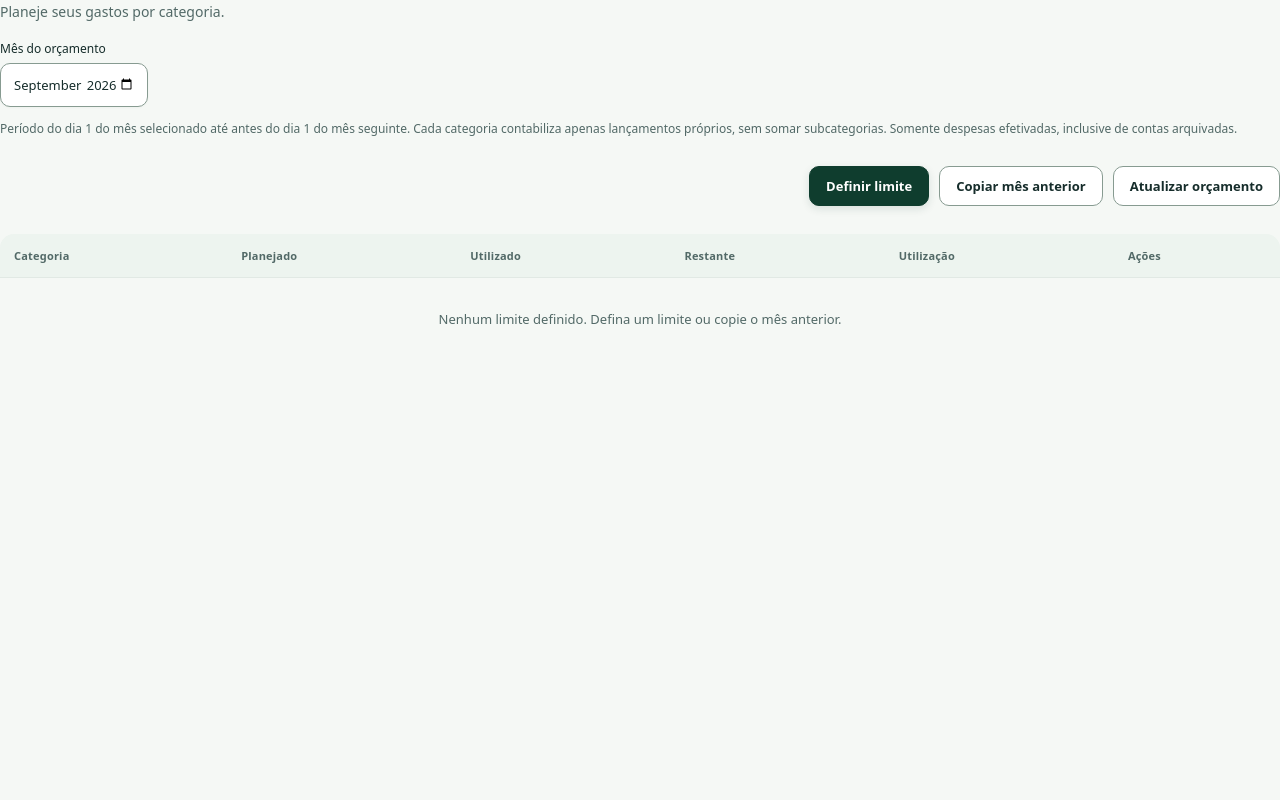
Test: creates exact limit, displays warning and confirms removal
Expected: the text "Nenhum limite definido" is shown, [439,310,841,328]
Click the button "Definir limite" at (869, 186), box [809,166,929,206]
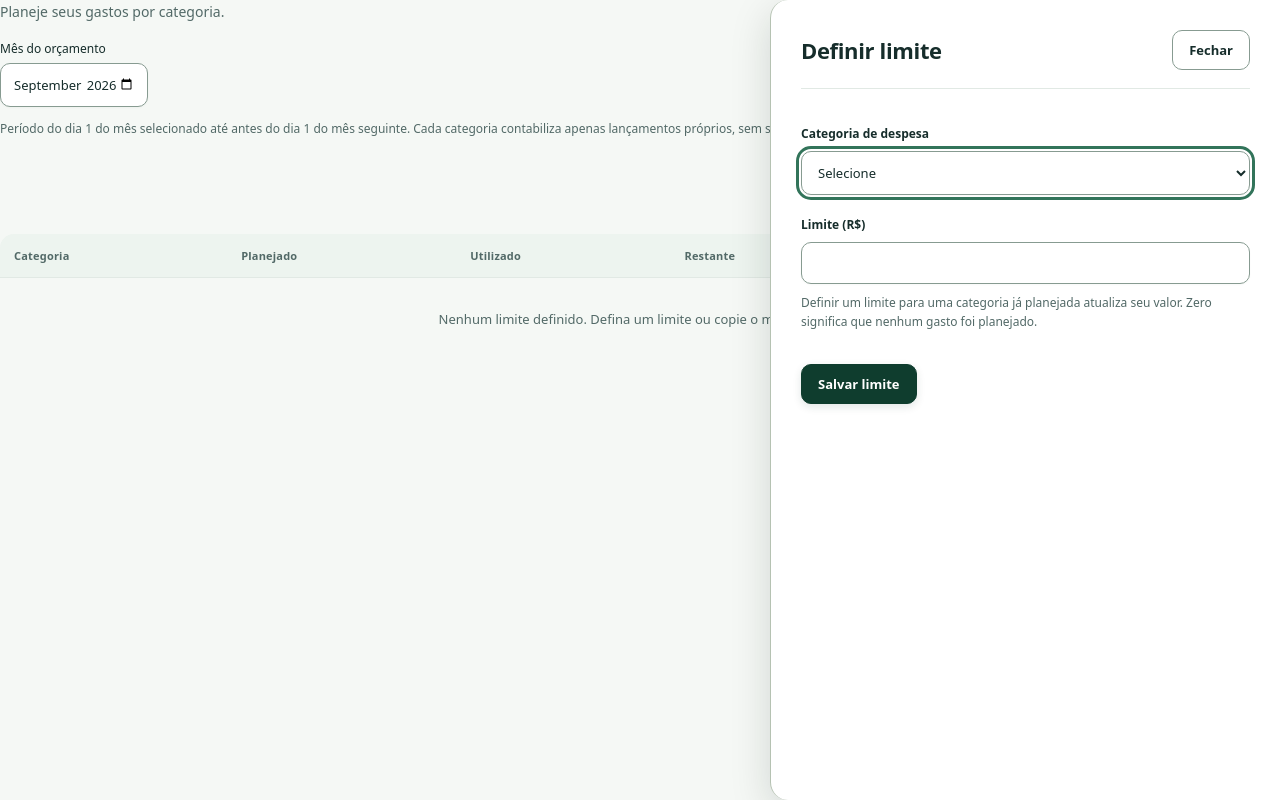
Select "Moradia" in the dropdown labelled "Categoria de despesa" at (1026, 173), box [801,151,1250,195]
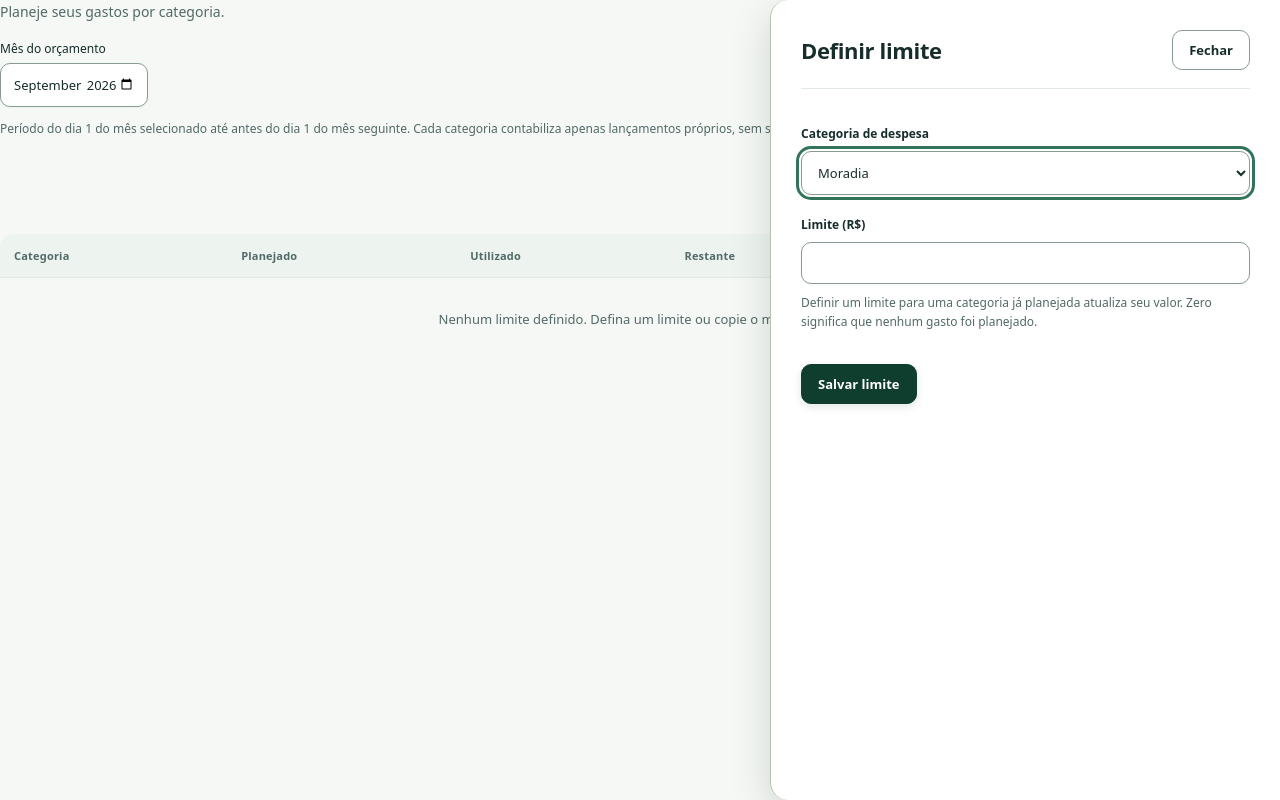
Type "100,00" into the field labelled "Limite (R$)" at (1026, 263), box [801,242,1250,284]
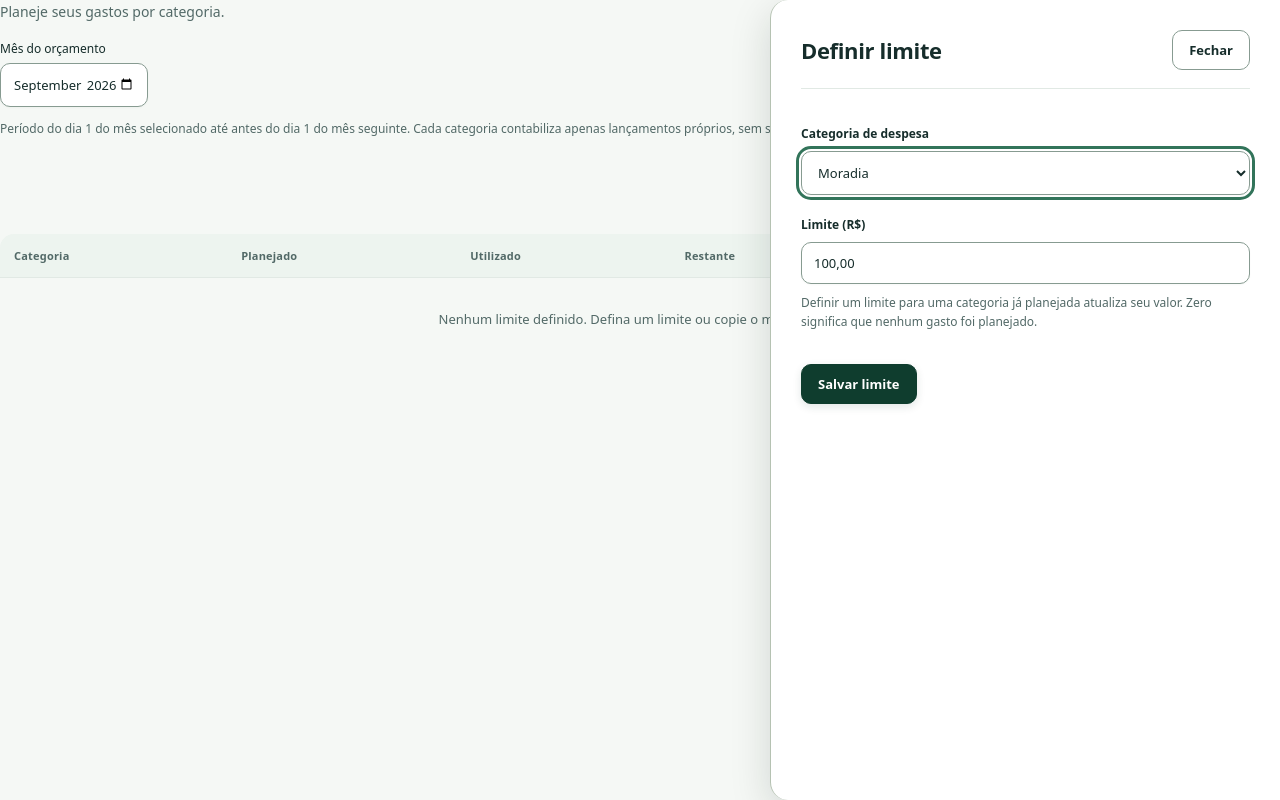
Click the button "Salvar limite" at (859, 384), box [801,364,916,404]
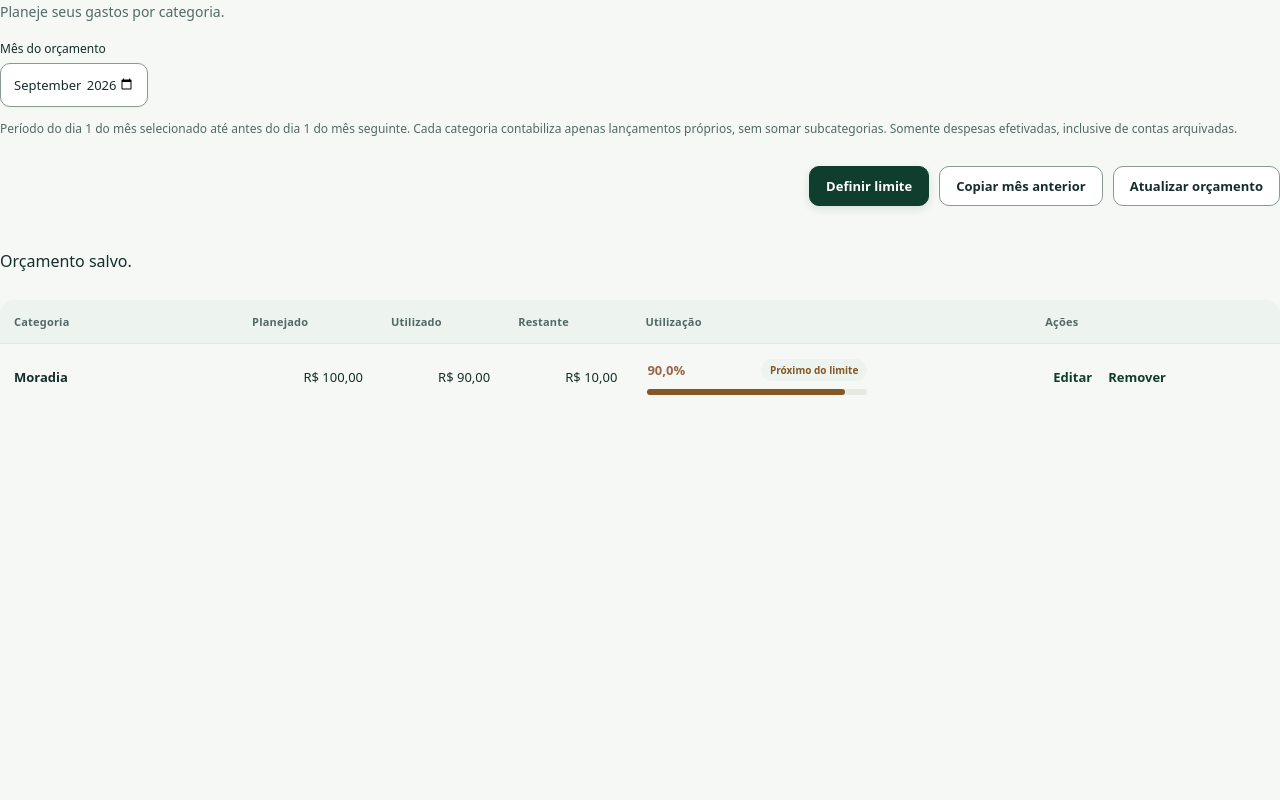
Expected: the text "Próximo do limite" is shown, [761,359,867,381]
Expected: the text "90,0%" is shown, [647,361,685,379]
Click the button with aria-label "Remover limite de Moradia" at (1137, 377), box [1100,362,1174,392]
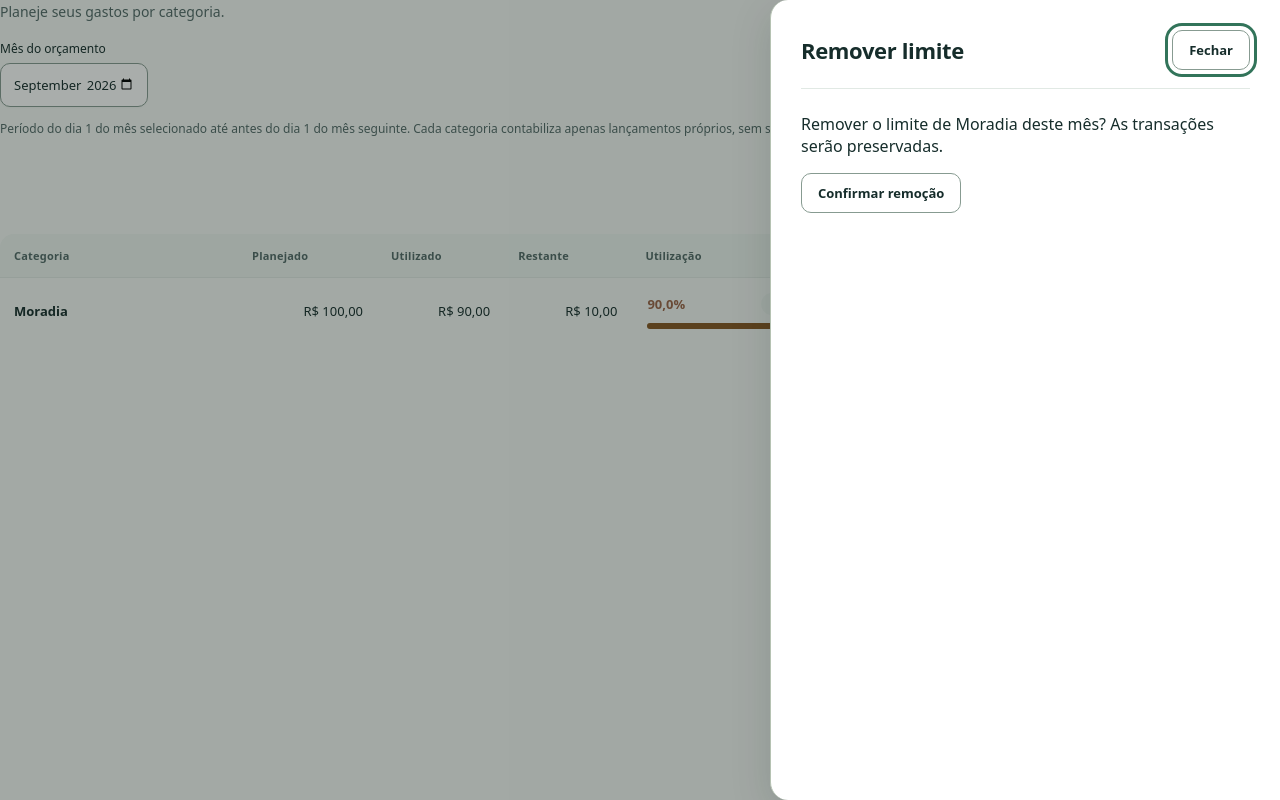
Click the button "Confirmar remoção" at (881, 193), box [801,173,961,213]
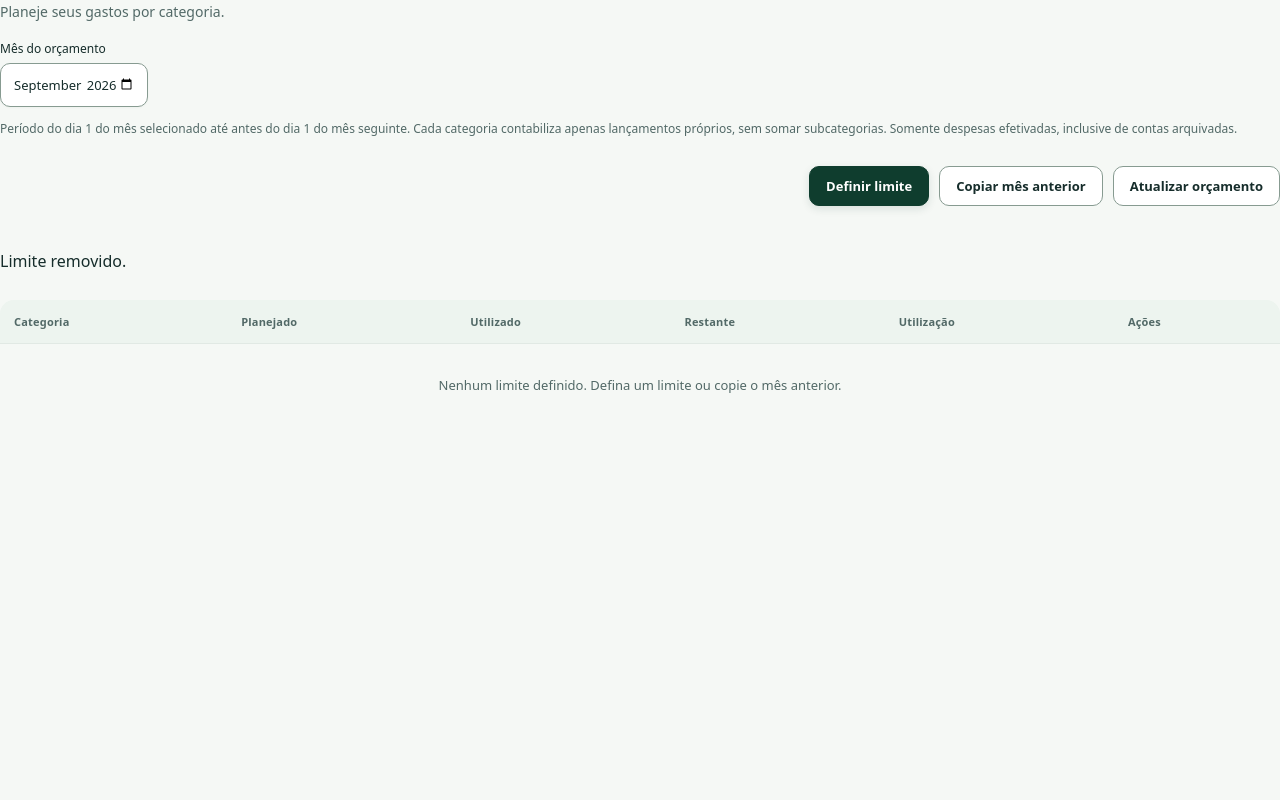
Expected: the dialog is gone
